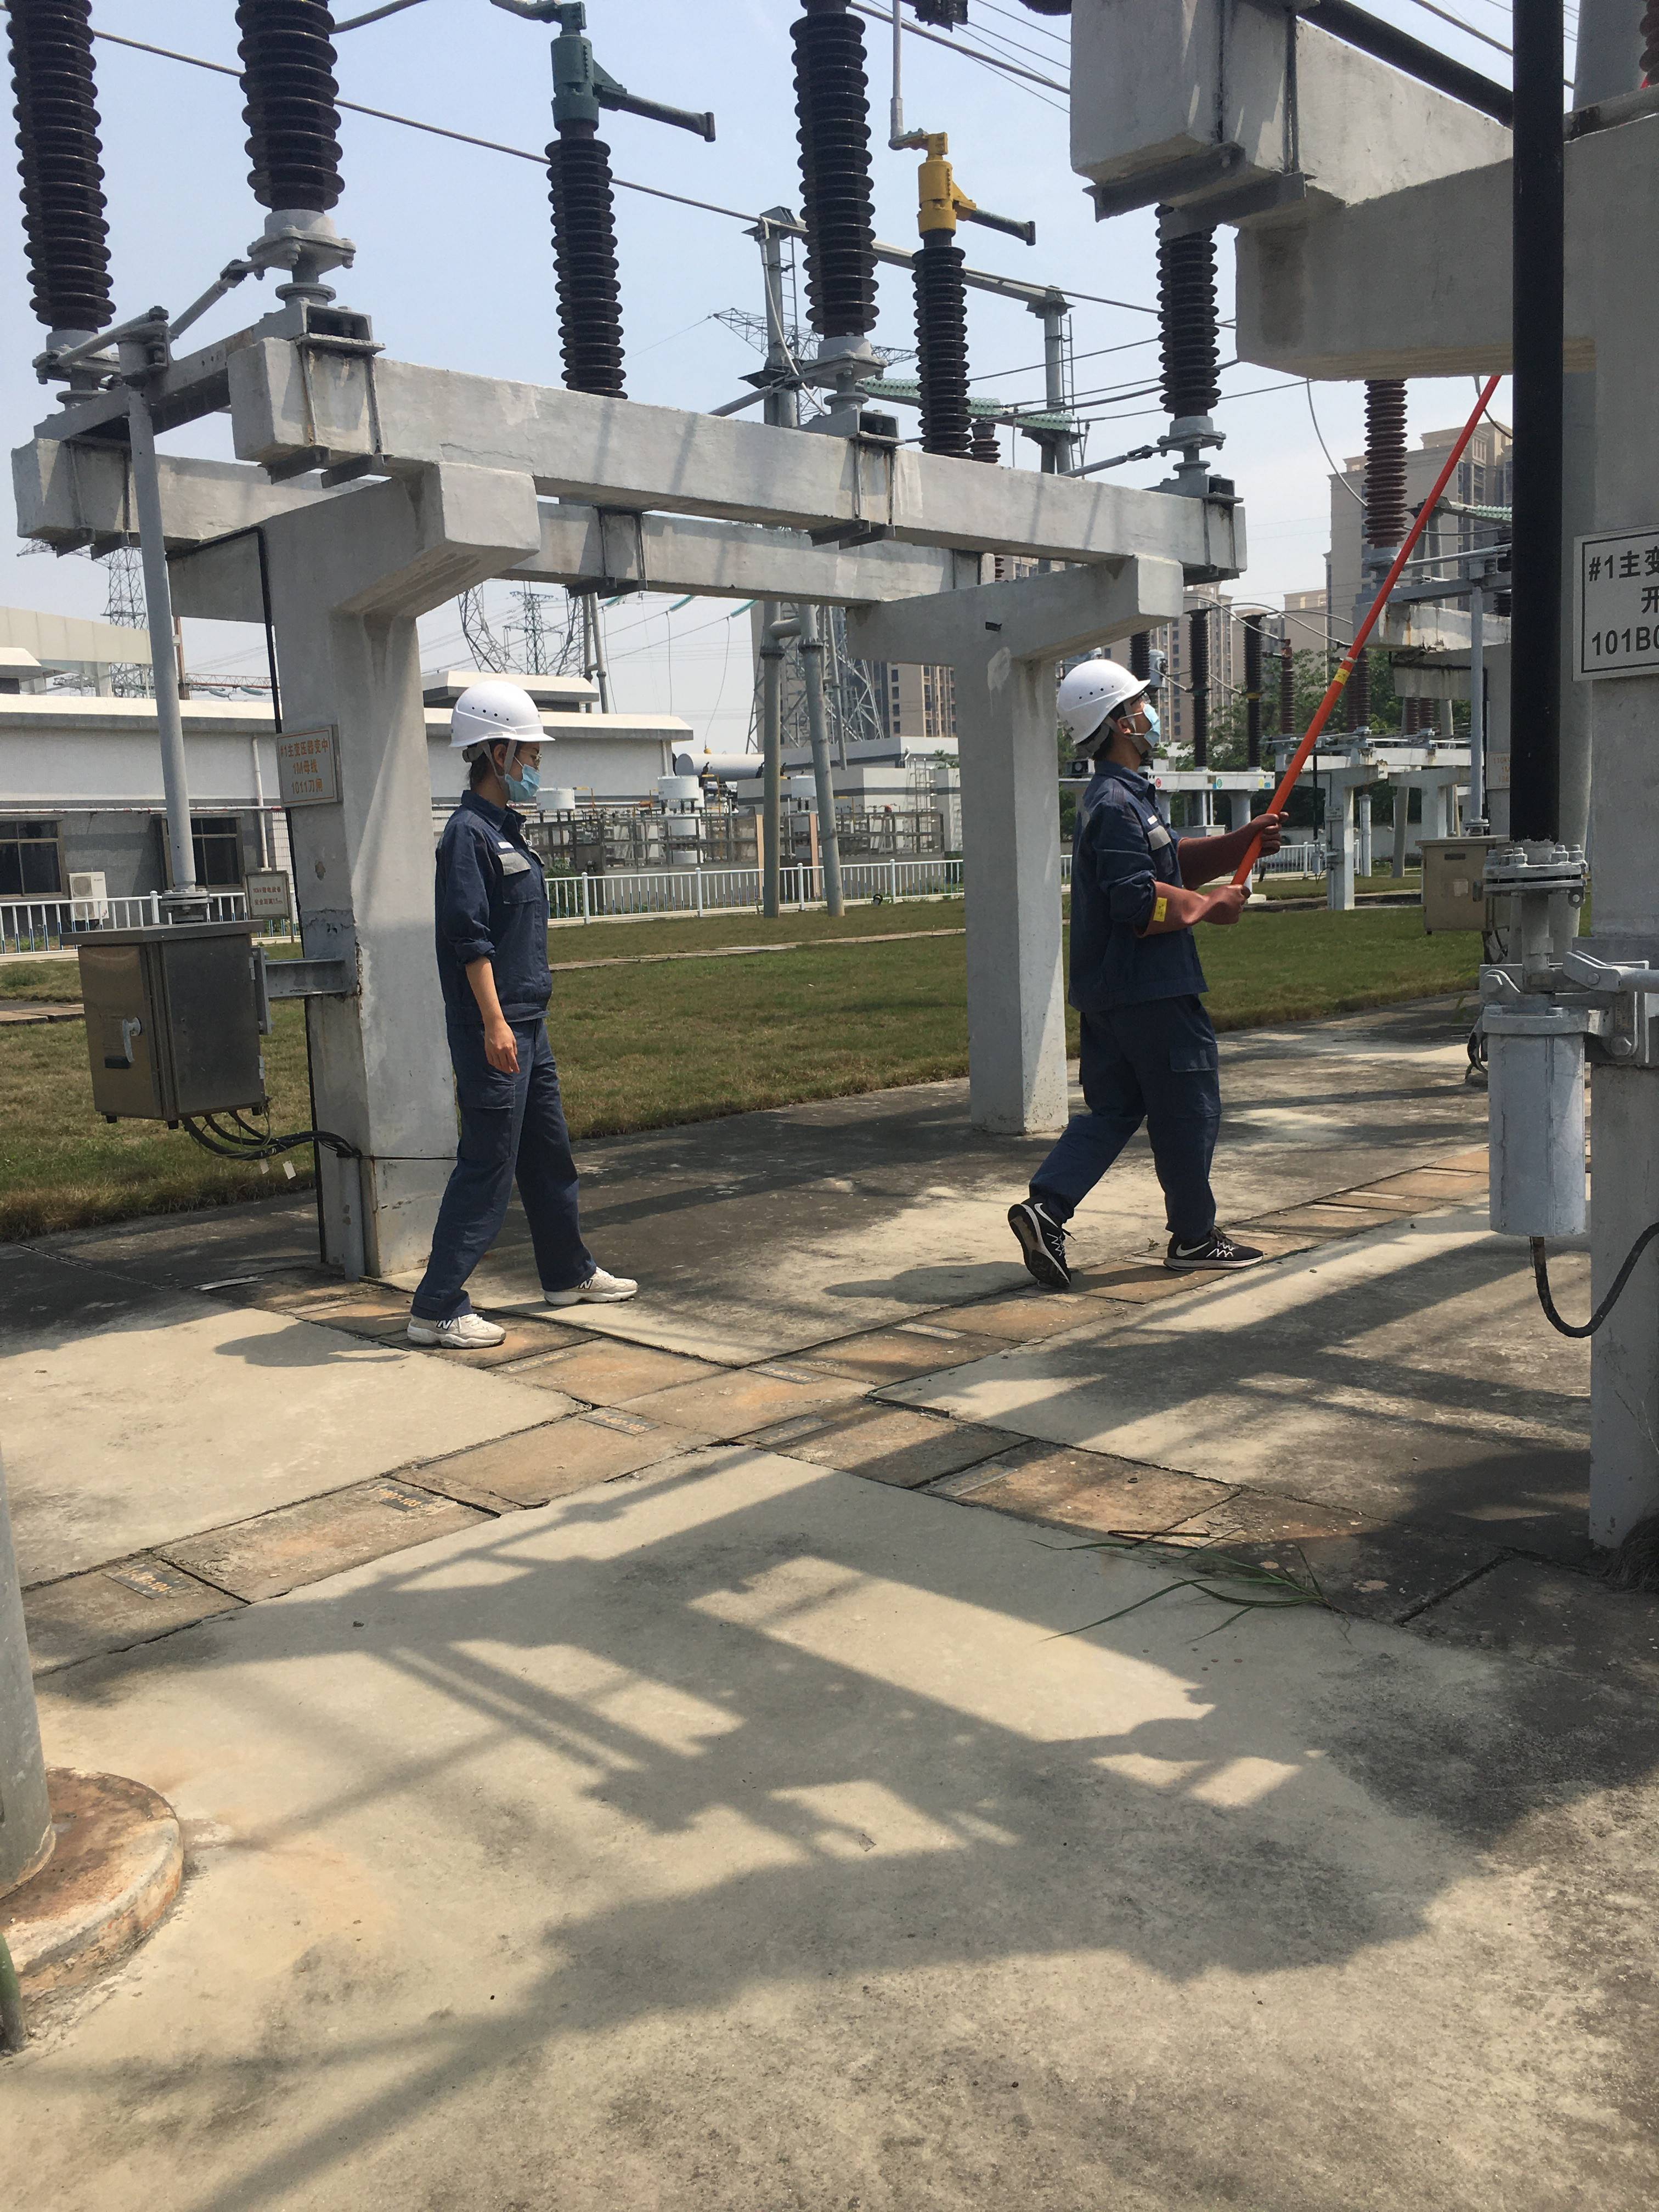downsuit: (411, 1047, 610, 1312), (1042, 1047, 1218, 1221)
upsuit: (1060, 787, 1230, 1010), (437, 803, 556, 1019)
wrongtop: (453, 925, 521, 1031)
